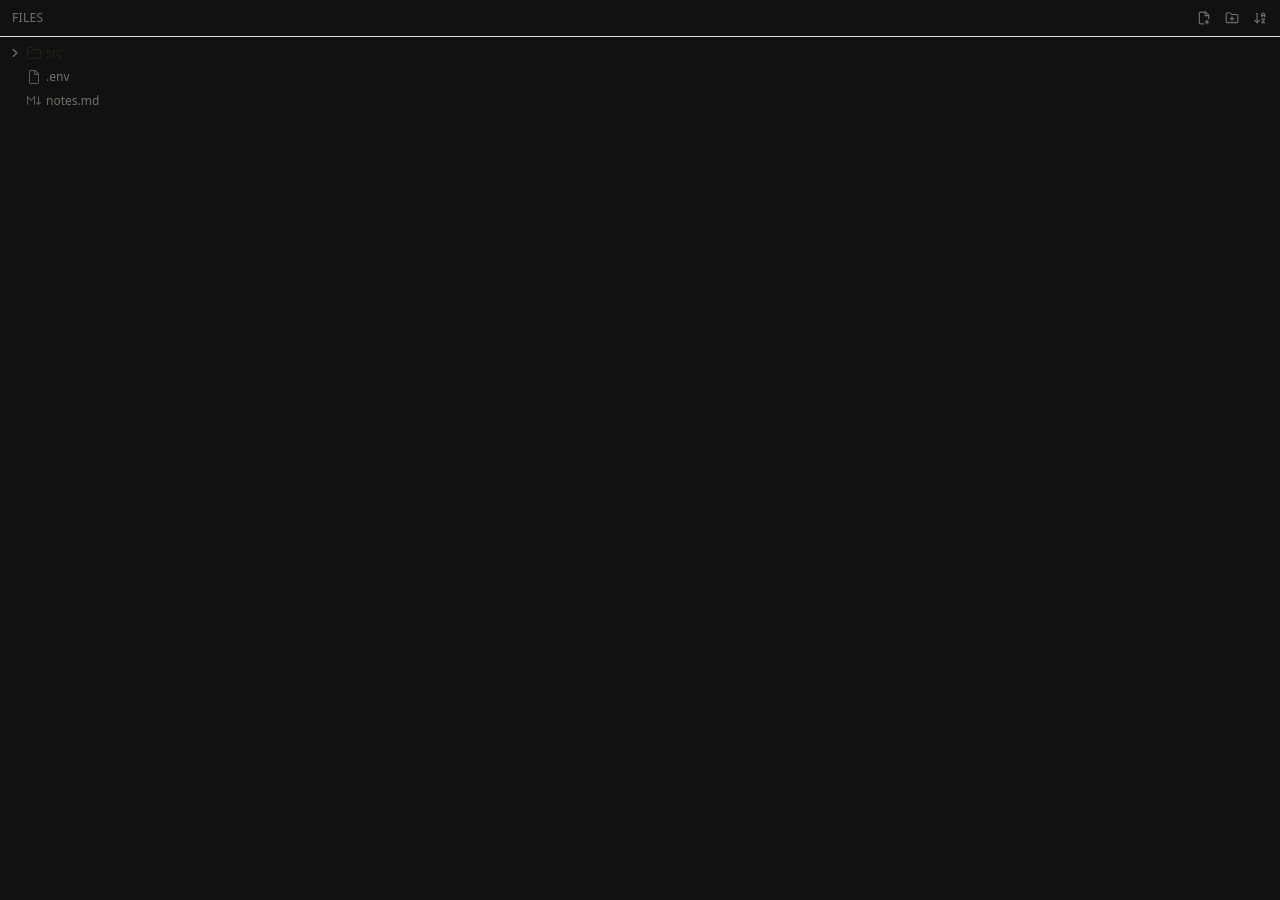
Test: FileTree file and folder management › a failed delete stays visible and keeps the tab open
The image size is (1280, 900).
Right-click the button "notes.md": (73, 100) [0, 89, 1279, 113]
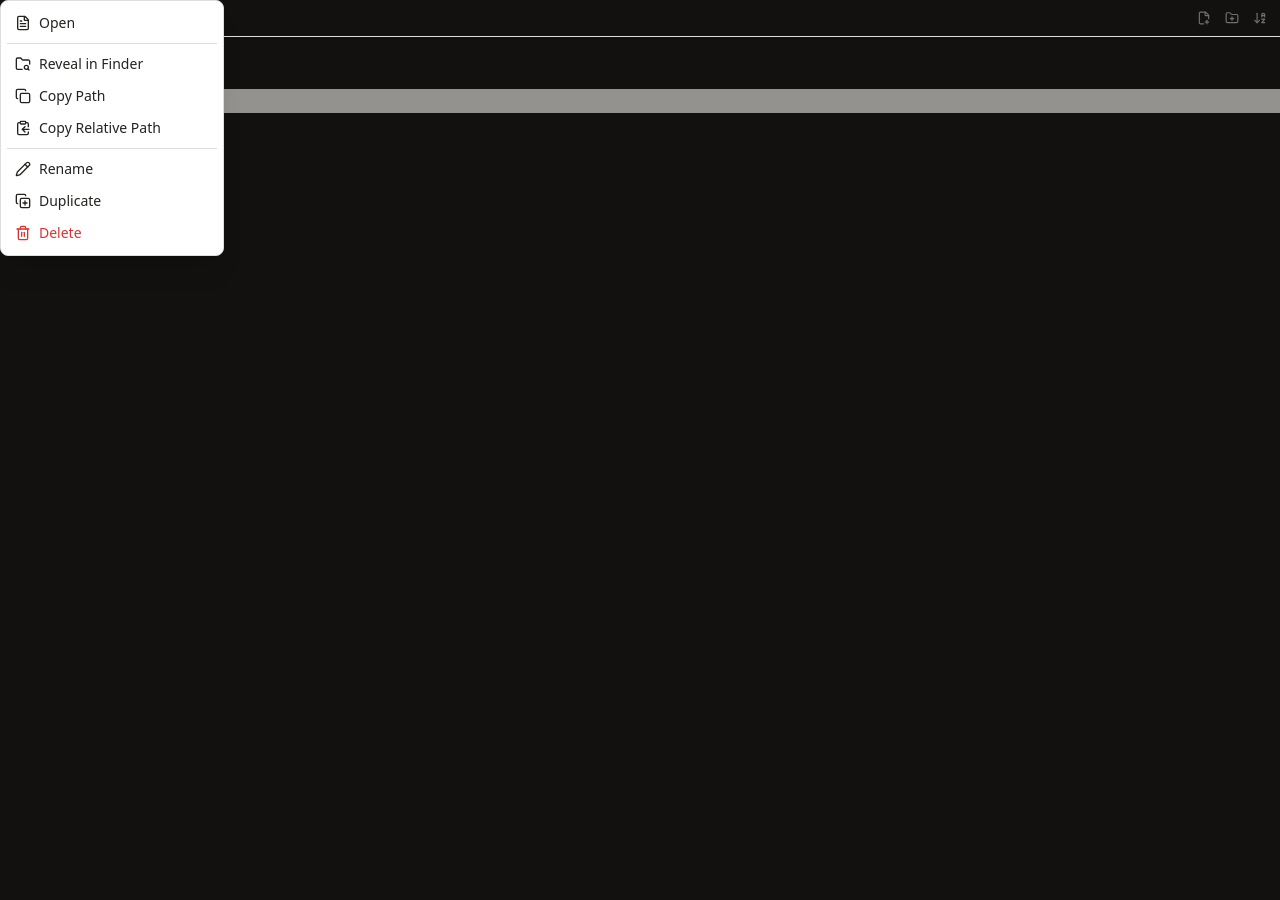
Click the menu item "Delete": (112, 233) [7, 217, 217, 249]
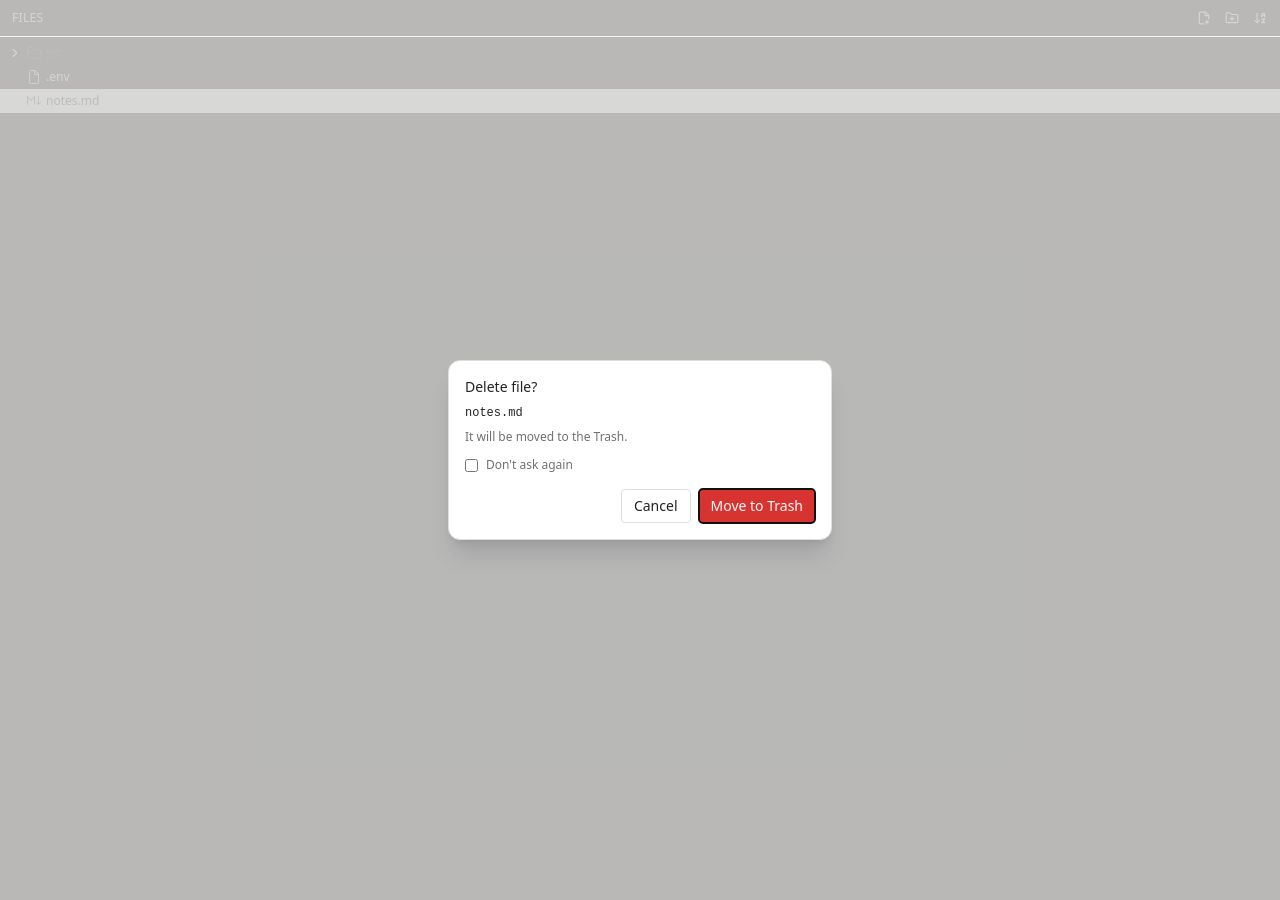
Click the button "Move to Trash": (757, 506) [698, 489, 815, 523]
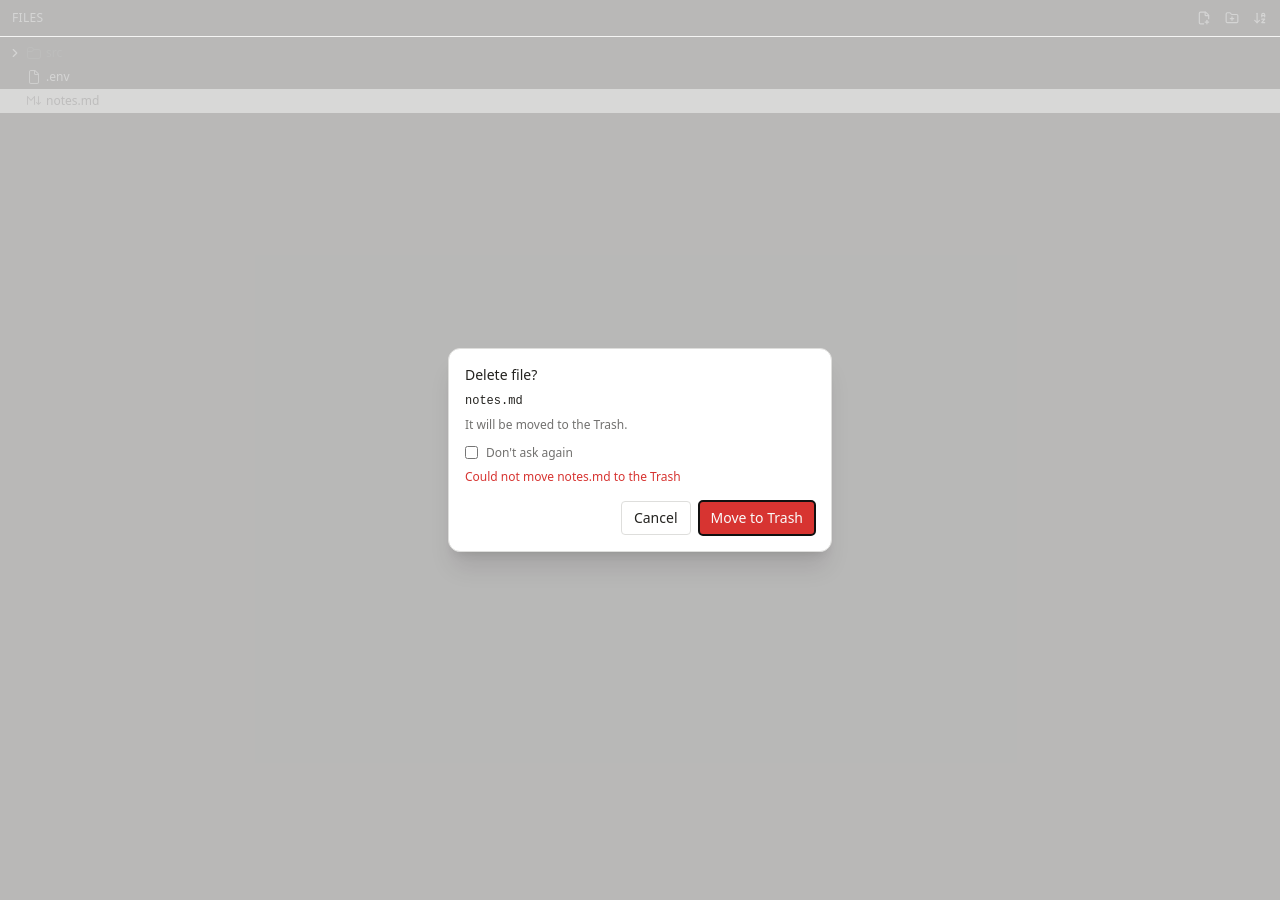
Now the message shows "Could not move notes.md", box [465, 468, 681, 485]
